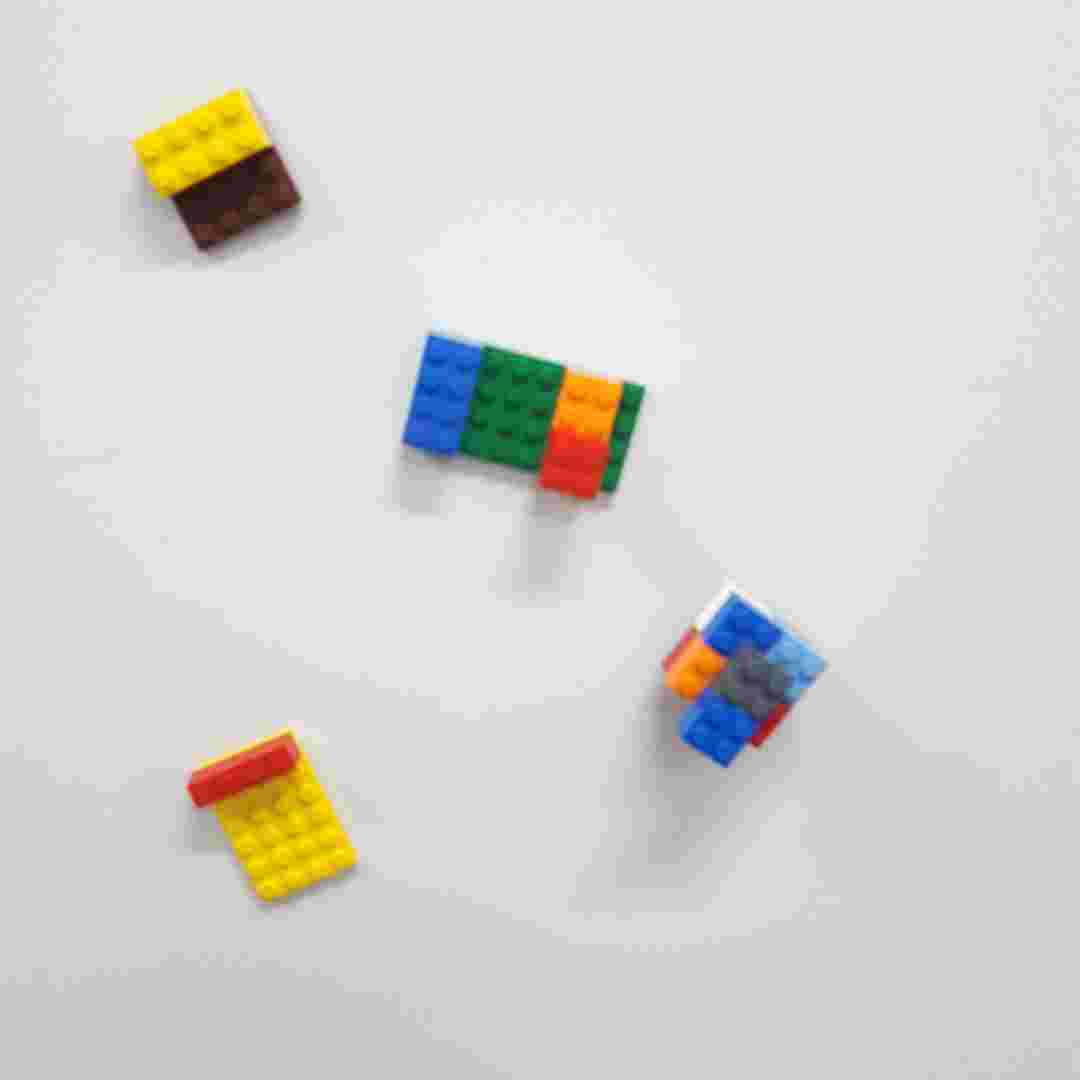LEGO: (397, 329, 652, 501), (187, 722, 372, 910), (659, 578, 831, 775), (132, 83, 311, 256)
